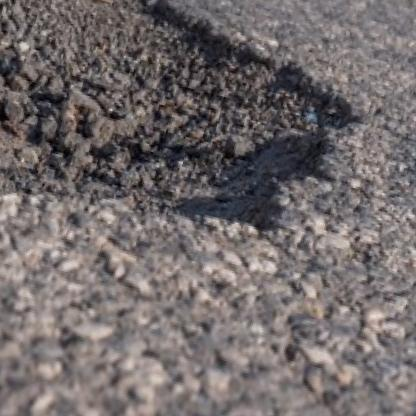pothole: (0, 0, 382, 282)
